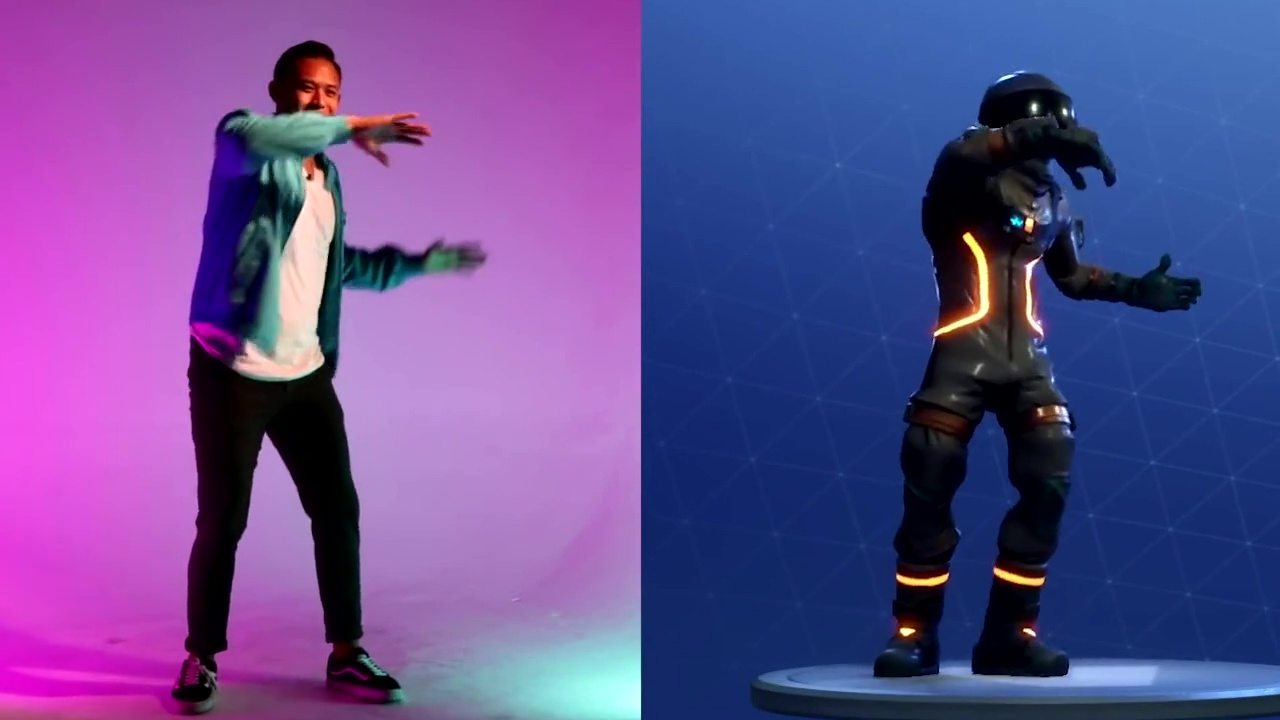Hip: (230, 340, 323, 387)
LeftAnkle: (302, 630, 405, 703)
LeftKnee: (278, 478, 390, 551)
RightAnkle: (166, 612, 226, 717)
RightElbow: (234, 82, 301, 192)
RightKnee: (167, 482, 275, 554)
RightWrist: (343, 91, 430, 173)
Torso: (241, 207, 343, 357)
